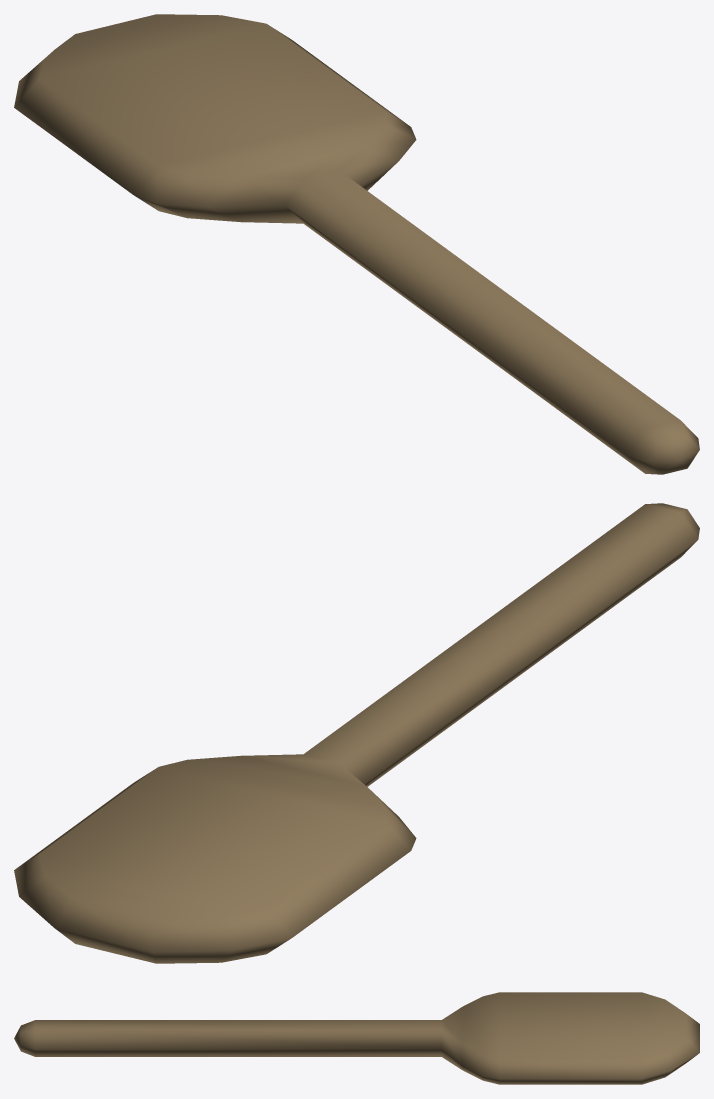
Rendered from rpgpp_ag_bread_spoon_01.fbx.
3 views of the same model, one above another, from view 1: azimuth 30°, elevation 25°; view 2: azimuth 150°, elevation 25°; view 3: azimuth 270°, elevation 25° (orthographic). The views are drawn at different scales.
Parts seen in each view (by area): view 1: rpgpp_ag_bread_spoon_01; view 2: rpgpp_ag_bread_spoon_01; view 3: rpgpp_ag_bread_spoon_01.
Part boxes in pixels (<box>): rpgpp_ag_bread_spoon_01: <box>14,14,699,474</box>; rpgpp_ag_bread_spoon_01: <box>14,503,699,963</box>; rpgpp_ag_bread_spoon_01: <box>14,992,699,1084</box>.
Bounding box in the file's own units: 0.207 × 0.032 × 0.7439.
